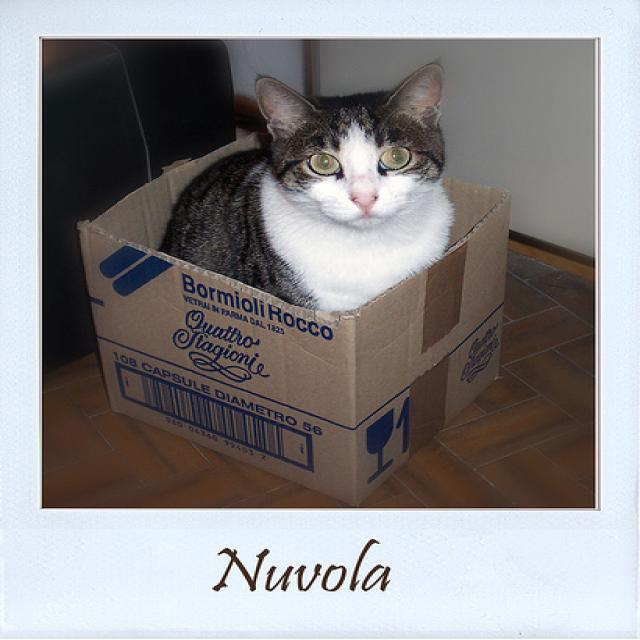cat: (159, 61, 455, 315)
